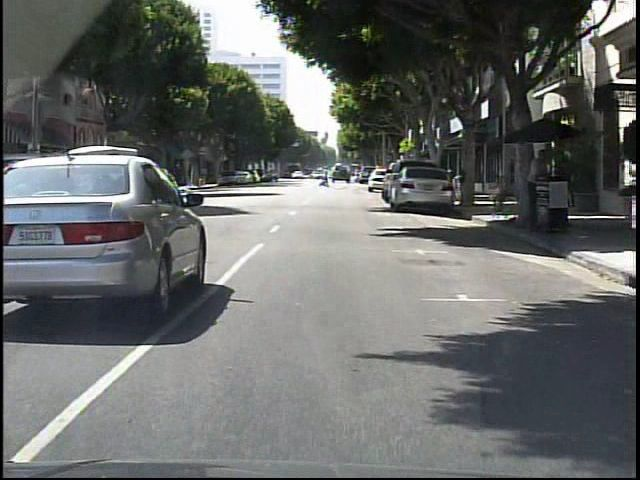person: (525, 147, 556, 229), (319, 168, 330, 188)
